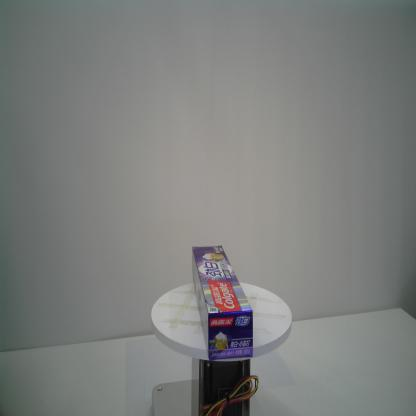Personal Hygiene: (192, 245, 253, 360)
